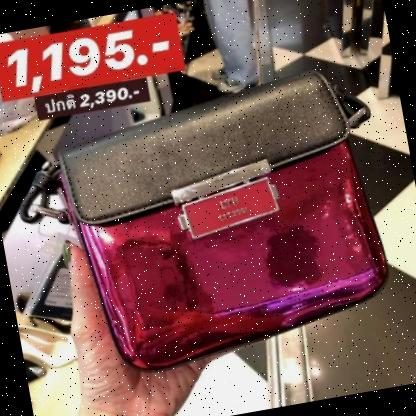bag: (35, 52, 409, 382)
